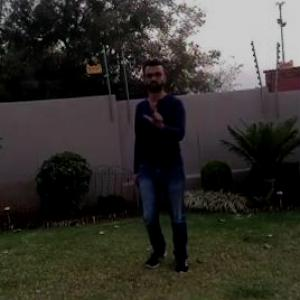land_hand: (142, 103, 171, 128)
